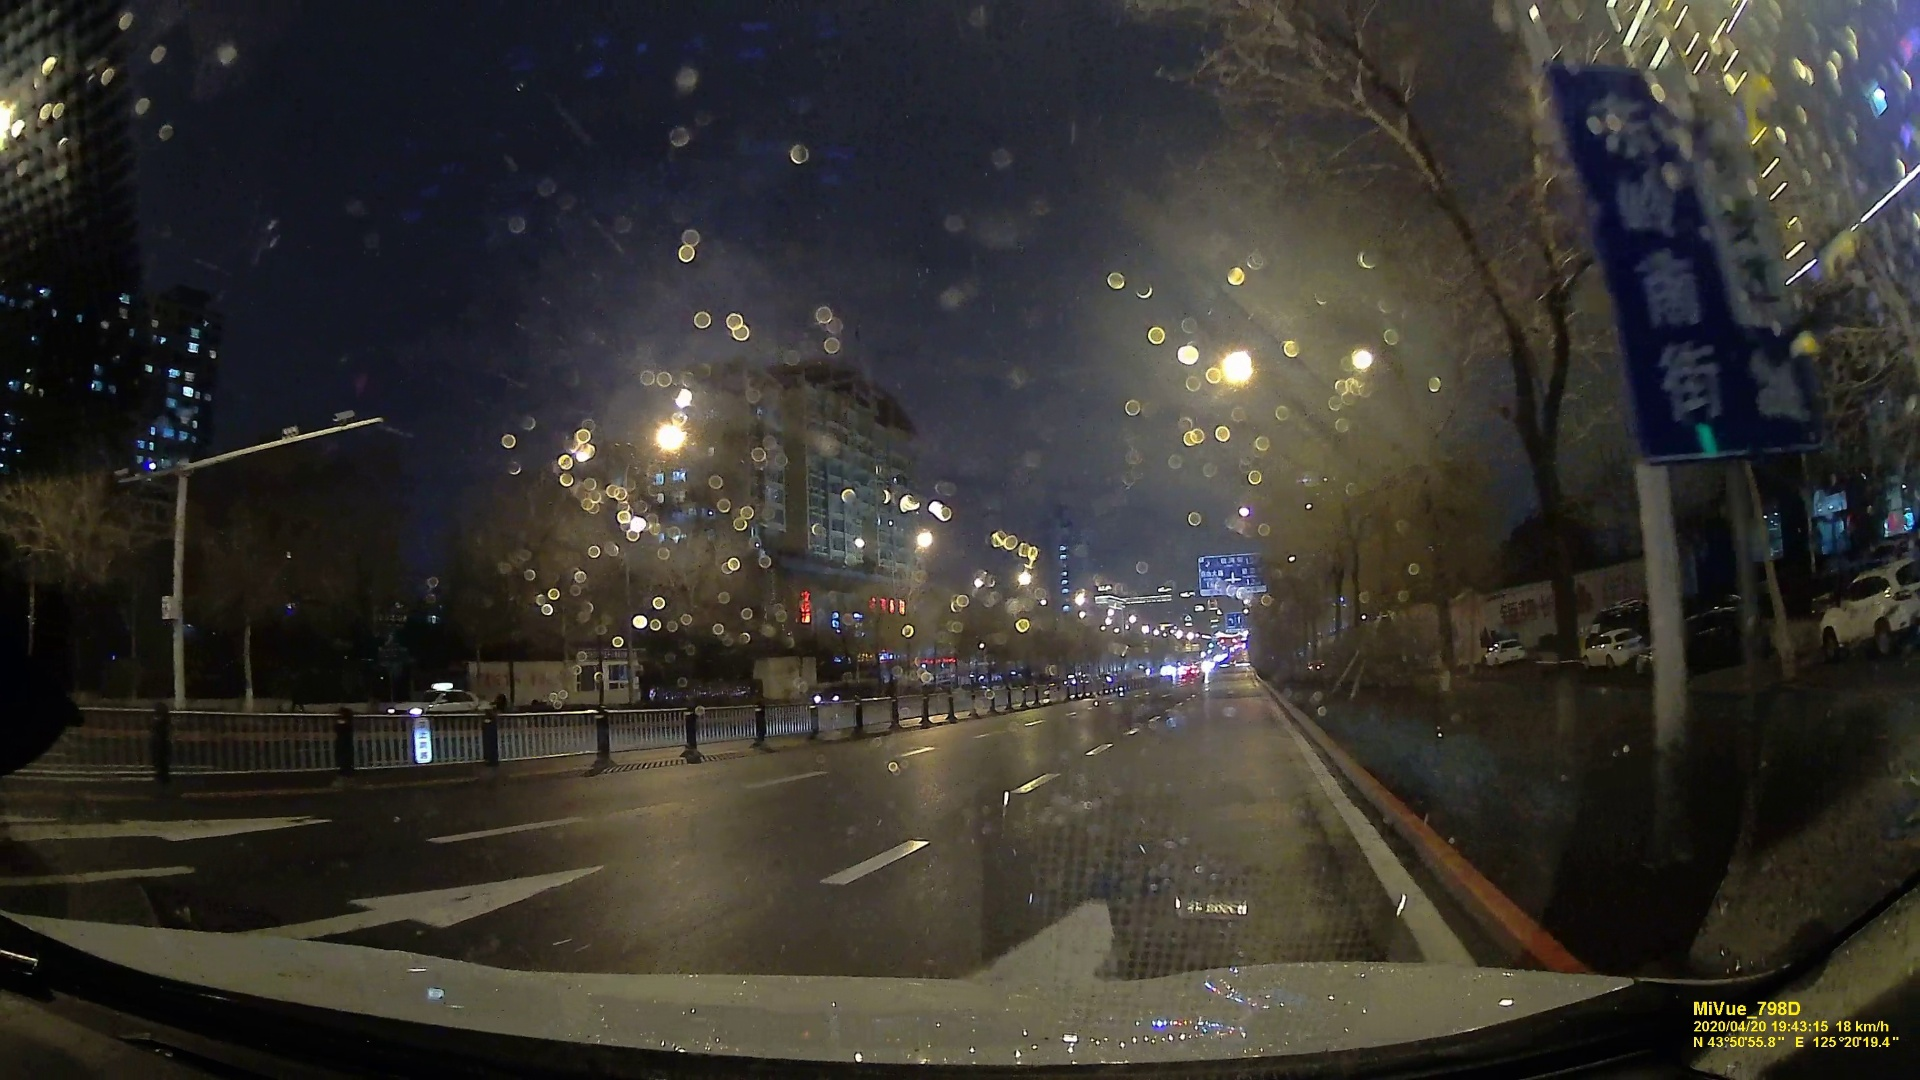traffic_sign: (1575, 73, 1829, 458), (1197, 560, 1265, 600)
vehicle: (385, 684, 481, 720)
